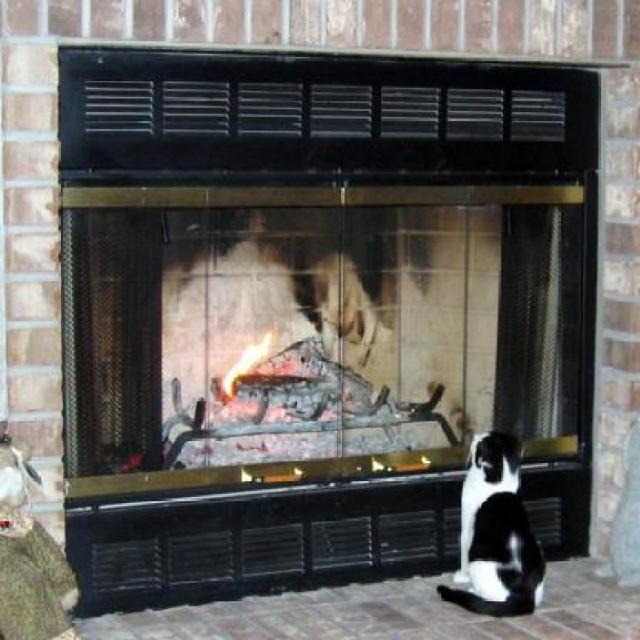Fire: (224, 335, 282, 374)
